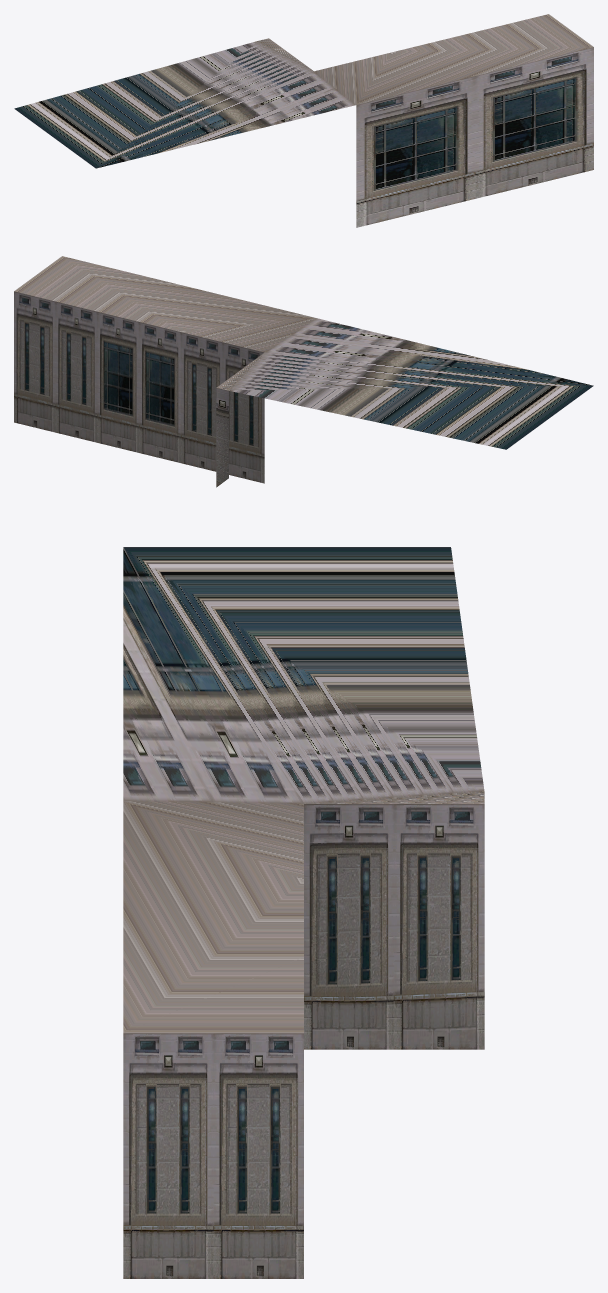
The model's file is M2Zone4_Building10B.glb.
The picture shows the model from 3 angles, top to bottom: view 1: azimuth 30°, elevation 25°; view 2: azimuth 150°, elevation 25°; view 3: azimuth 270°, elevation 25°; orthographic projection. The views are drawn at different scales.
Visible parts, largest first — view 1: M2ZONE4_BUILDING10B; view 2: M2ZONE4_BUILDING10B; view 3: M2ZONE4_BUILDING10B.
Part boxes in pixels (left/top/right/bottom): M2ZONE4_BUILDING10B: left=14, top=14, right=593, bottom=227; M2ZONE4_BUILDING10B: left=14, top=256, right=593, bottom=487; M2ZONE4_BUILDING10B: left=123, top=547, right=484, bottom=1278.
Bounding box in the file's own units: 50.93 × 12 × 16.
Materials: 2 (2 with a texture image).
